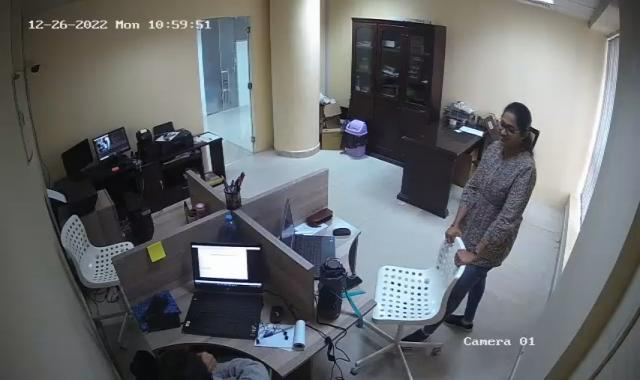no_hairnet: (499, 103, 533, 150)
